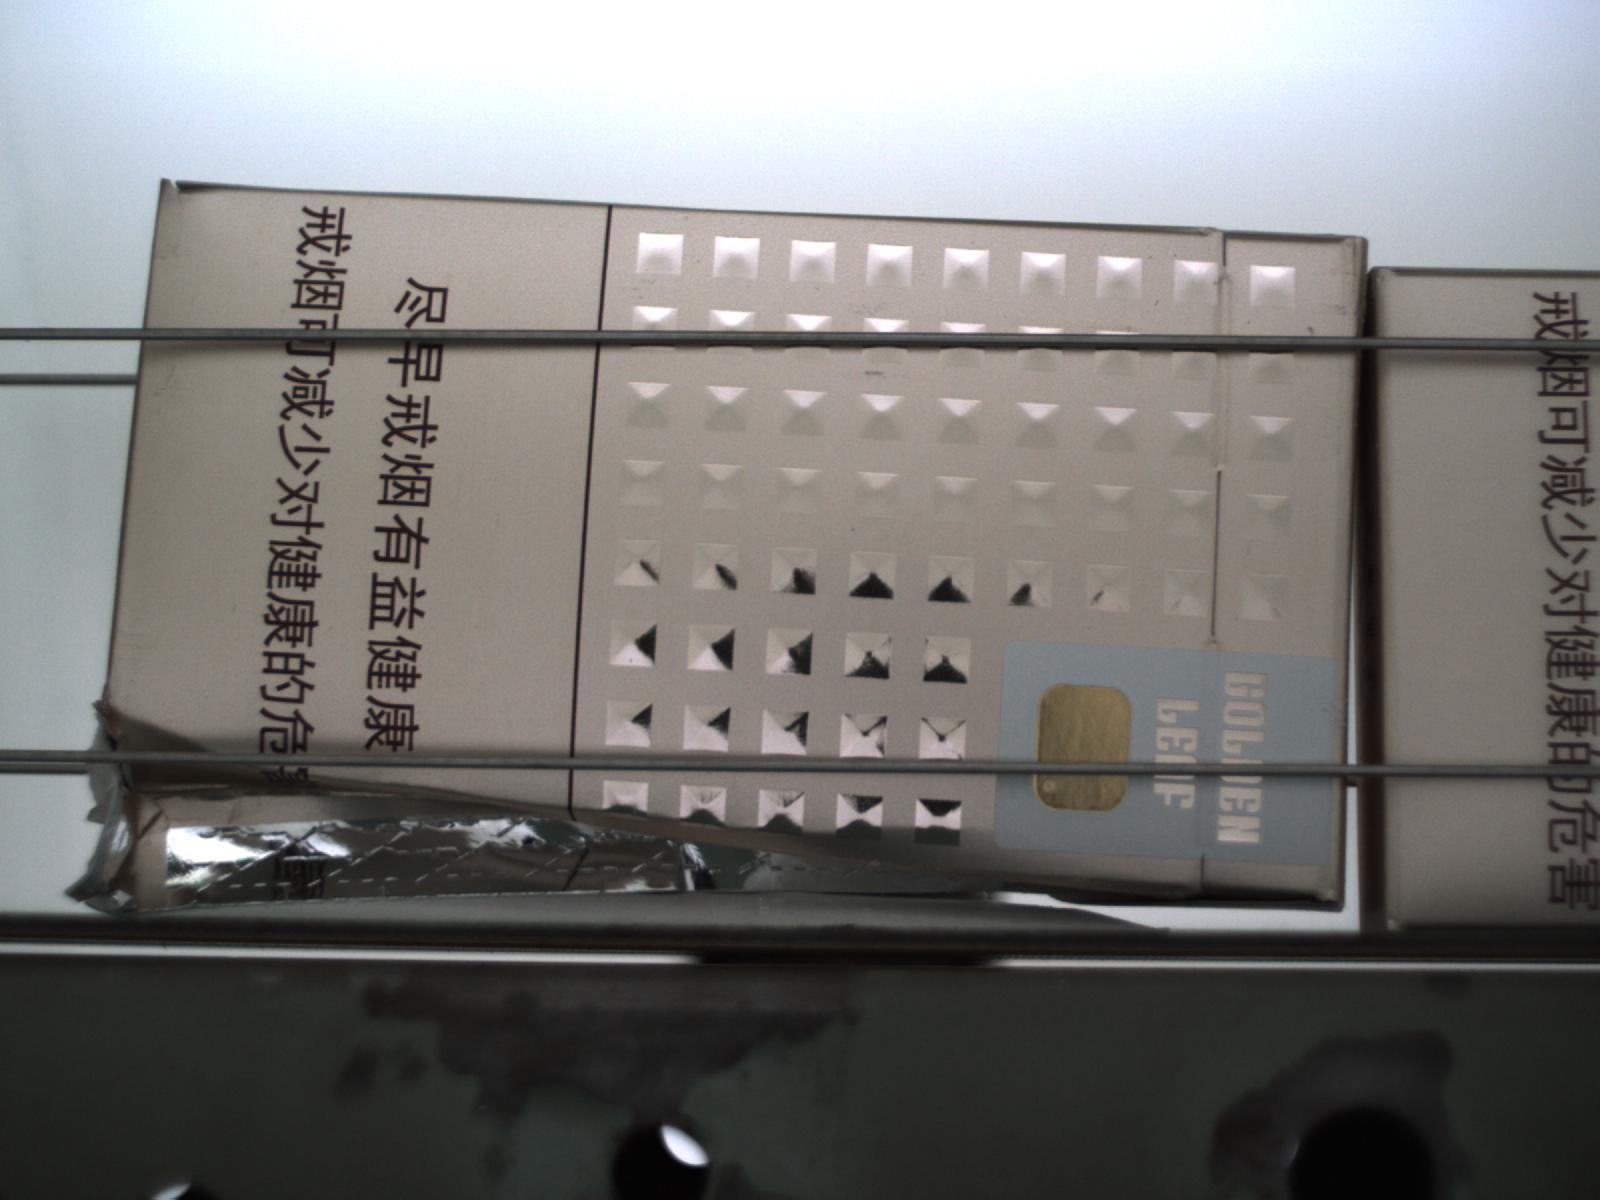dirtyScratch: (83, 729, 1154, 935)
dirtySpot: (848, 524, 859, 536), (1305, 325, 1317, 335), (693, 256, 703, 265), (813, 285, 823, 294), (1153, 299, 1163, 308)
